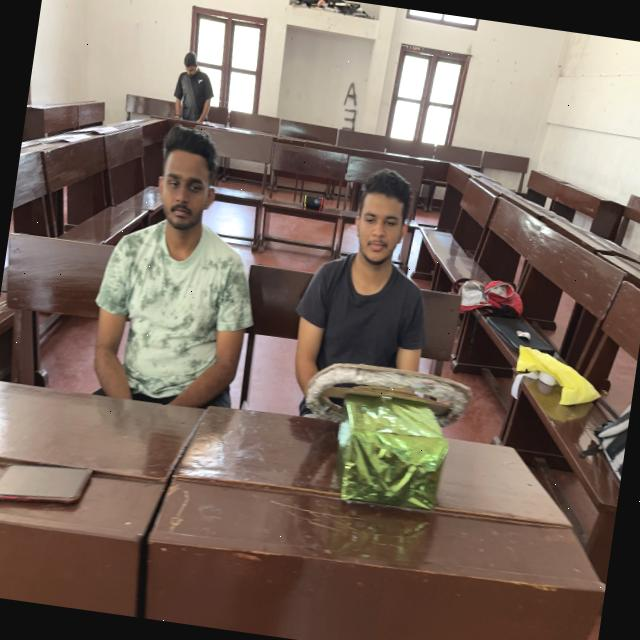no-seatbelt: (73, 221, 254, 455), (279, 260, 434, 462)
